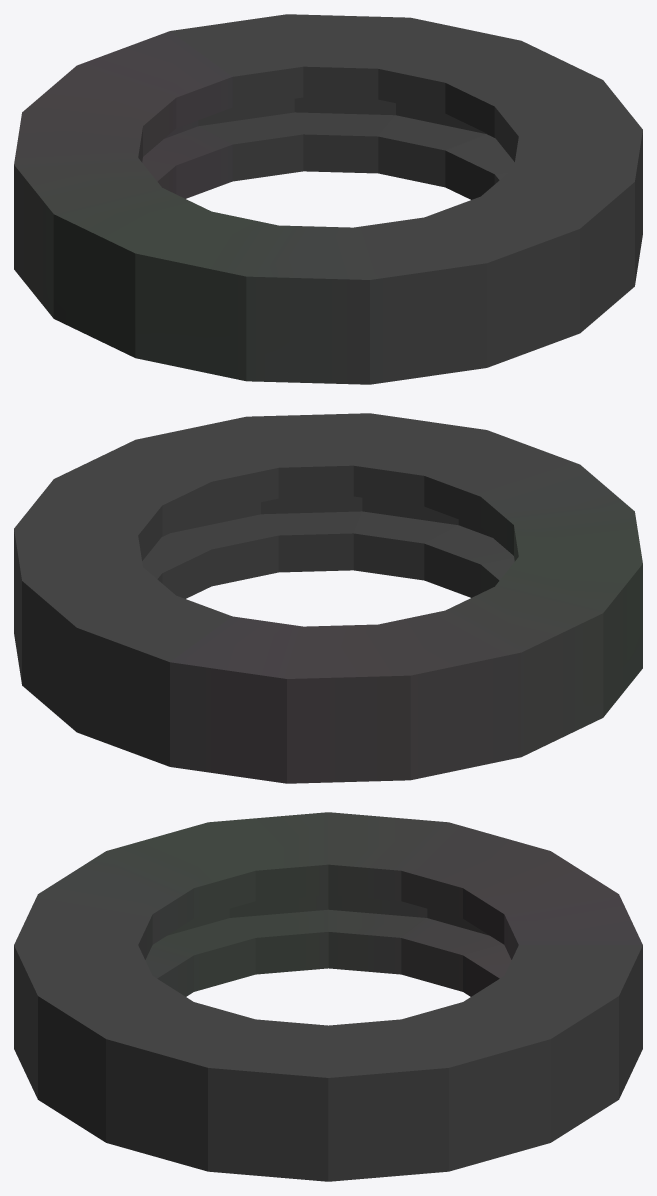
File: Tire.fbx
3 renders of one model, top to bottom at view 1: azimuth 30°, elevation 25°; view 2: azimuth 150°, elevation 25°; view 3: azimuth 270°, elevation 25°, orthographic.
Parts seen in each view (by area): view 1: Tire; view 2: Tire; view 3: Tire.
Part boxes in pixels (bbox=[...]): Tire: bbox=[14, 14, 642, 384]; Tire: bbox=[14, 413, 642, 783]; Tire: bbox=[14, 812, 642, 1181].
Size of the model in its own units: 200 by 36.42 by 200.
